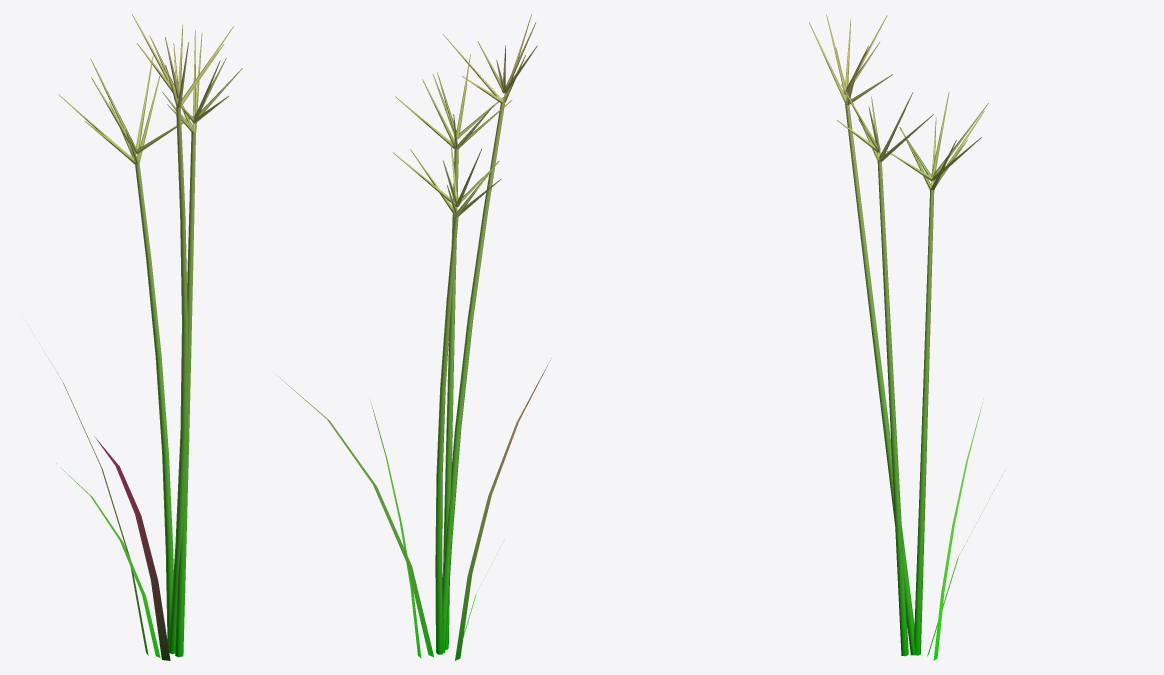
The model's file is reed_b_lod.glb.
3 views of the same model, side by side, from view 1: azimuth 30°, elevation 25°; view 2: azimuth 150°, elevation 25°; view 3: azimuth 270°, elevation 25° (orthographic). The views are drawn at different scales.
Parts seen in each view (by area): view 1: Reed_B_LOD; view 2: Reed_B_LOD; view 3: Reed_B_LOD.
Boxes of the visible parts, bbox=[...] form: Reed_B_LOD: bbox=[35, 14, 242, 660]; Reed_B_LOD: bbox=[275, 14, 551, 660]; Reed_B_LOD: bbox=[809, 14, 1004, 660].
Size of the model in its own units: 1 by 2.67 by 1.66.
